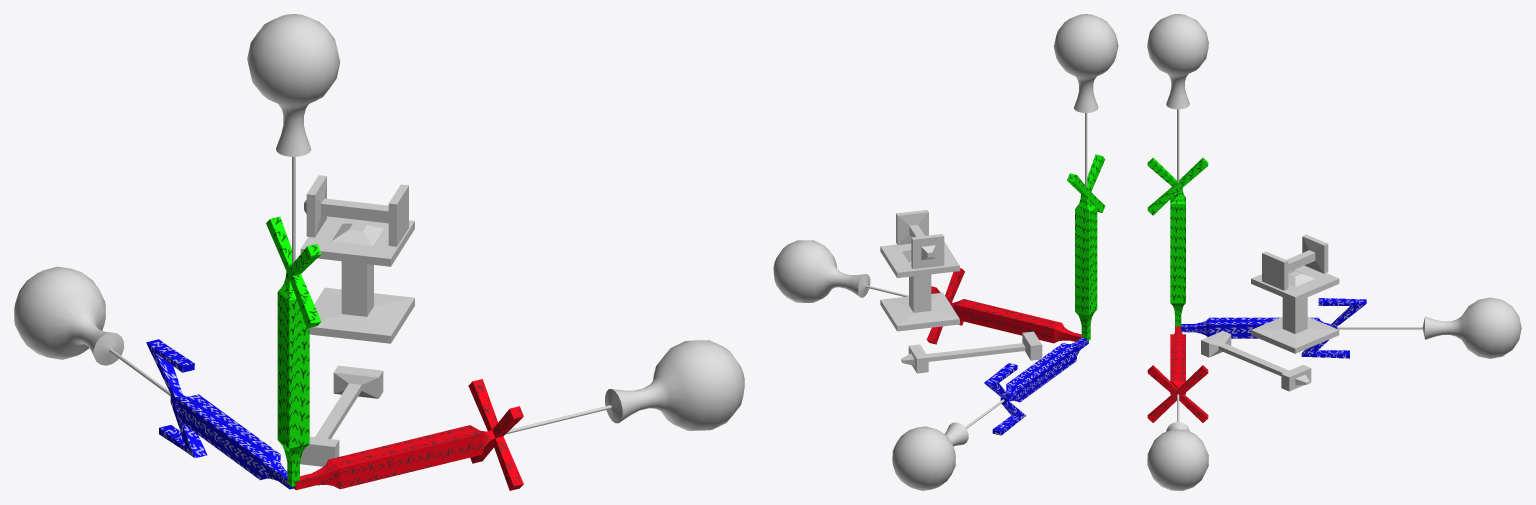
File: XYZ_Forward(+X)_Up(-Z).fbx
3 views of the same model, side by side, from view 1: azimuth 30°, elevation 25°; view 2: azimuth 150°, elevation 25°; view 3: azimuth 270°, elevation 25° (orthographic). The views are drawn at different scales.
Visible parts, largest first — view 1: RodB, DirectionThingie_Y, DirectionThingie_X, X_Transform, DirectionThingie_Z, Y_Transform, Z_Transform, RodC, RodA; view 2: DirectionThingie_Y, RodB, DirectionThingie_X, DirectionThingie_Z, Y_Transform, X_Transform, Z_Transform, RodC, RodA; view 3: RodB, DirectionThingie_Z, DirectionThingie_Y, DirectionThingie_X, Y_Transform, Z_Transform, X_Transform, RodC, RodA.
Boxes of the visible parts, x1=… form: RodB: x1=300, y1=216, x2=414, y2=343; DirectionThingie_Y: x1=247, y1=14, x2=340, y2=264; DirectionThingie_X: x1=505, y1=340, x2=744, y2=434; X_Transform: x1=293, y1=379, x2=523, y2=490; DirectionThingie_Z: x1=14, y1=266, x2=170, y2=395; Y_Transform: x1=266, y1=216, x2=321, y2=486; Z_Transform: x1=146, y1=339, x2=293, y2=489; RodC: x1=304, y1=175, x2=408, y2=246; RodA: x1=300, y1=365, x2=383, y2=466; DirectionThingie_Y: x1=1054, y1=14, x2=1118, y2=187; RodB: x1=880, y1=242, x2=959, y2=331; DirectionThingie_X: x1=773, y1=240, x2=908, y2=302; DirectionThingie_Z: x1=892, y1=399, x2=1004, y2=490; Y_Transform: x1=1067, y1=154, x2=1105, y2=341; X_Transform: x1=926, y1=268, x2=1081, y2=344; Z_Transform: x1=984, y1=337, x2=1088, y2=435; RodC: x1=896, y1=210, x2=944, y2=268; RodA: x1=901, y1=331, x2=1042, y2=373; RodB: x1=1251, y1=265, x2=1339, y2=353; DirectionThingie_Z: x1=1337, y1=297, x2=1521, y2=358; DirectionThingie_Y: x1=1147, y1=14, x2=1208, y2=194; DirectionThingie_X: x1=1147, y1=394, x2=1208, y2=490; Y_Transform: x1=1147, y1=157, x2=1208, y2=326; Z_Transform: x1=1181, y1=298, x2=1366, y2=358; X_Transform: x1=1147, y1=326, x2=1208, y2=422; RodC: x1=1262, y1=234, x2=1328, y2=290; RodA: x1=1201, y1=331, x2=1311, y2=391.
Bounding box in the file's own units: 240 × 240 × 240.
1 material, 1 textured.
